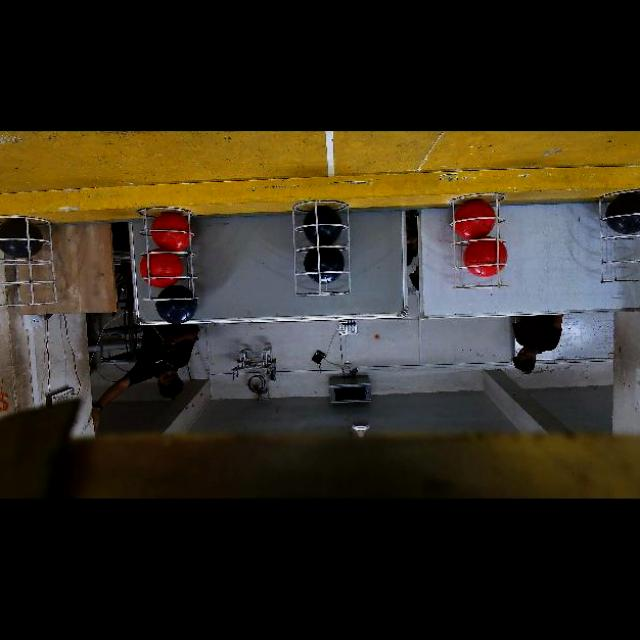P: (304, 244, 344, 284), (156, 285, 198, 323), (0, 221, 42, 258), (303, 206, 342, 245), (606, 192, 640, 234)
R: (454, 199, 496, 239), (463, 240, 507, 277), (151, 211, 190, 250), (140, 251, 182, 287)
S: (286, 199, 354, 297), (142, 203, 202, 299), (448, 198, 509, 292), (0, 220, 58, 312), (596, 194, 640, 288)
